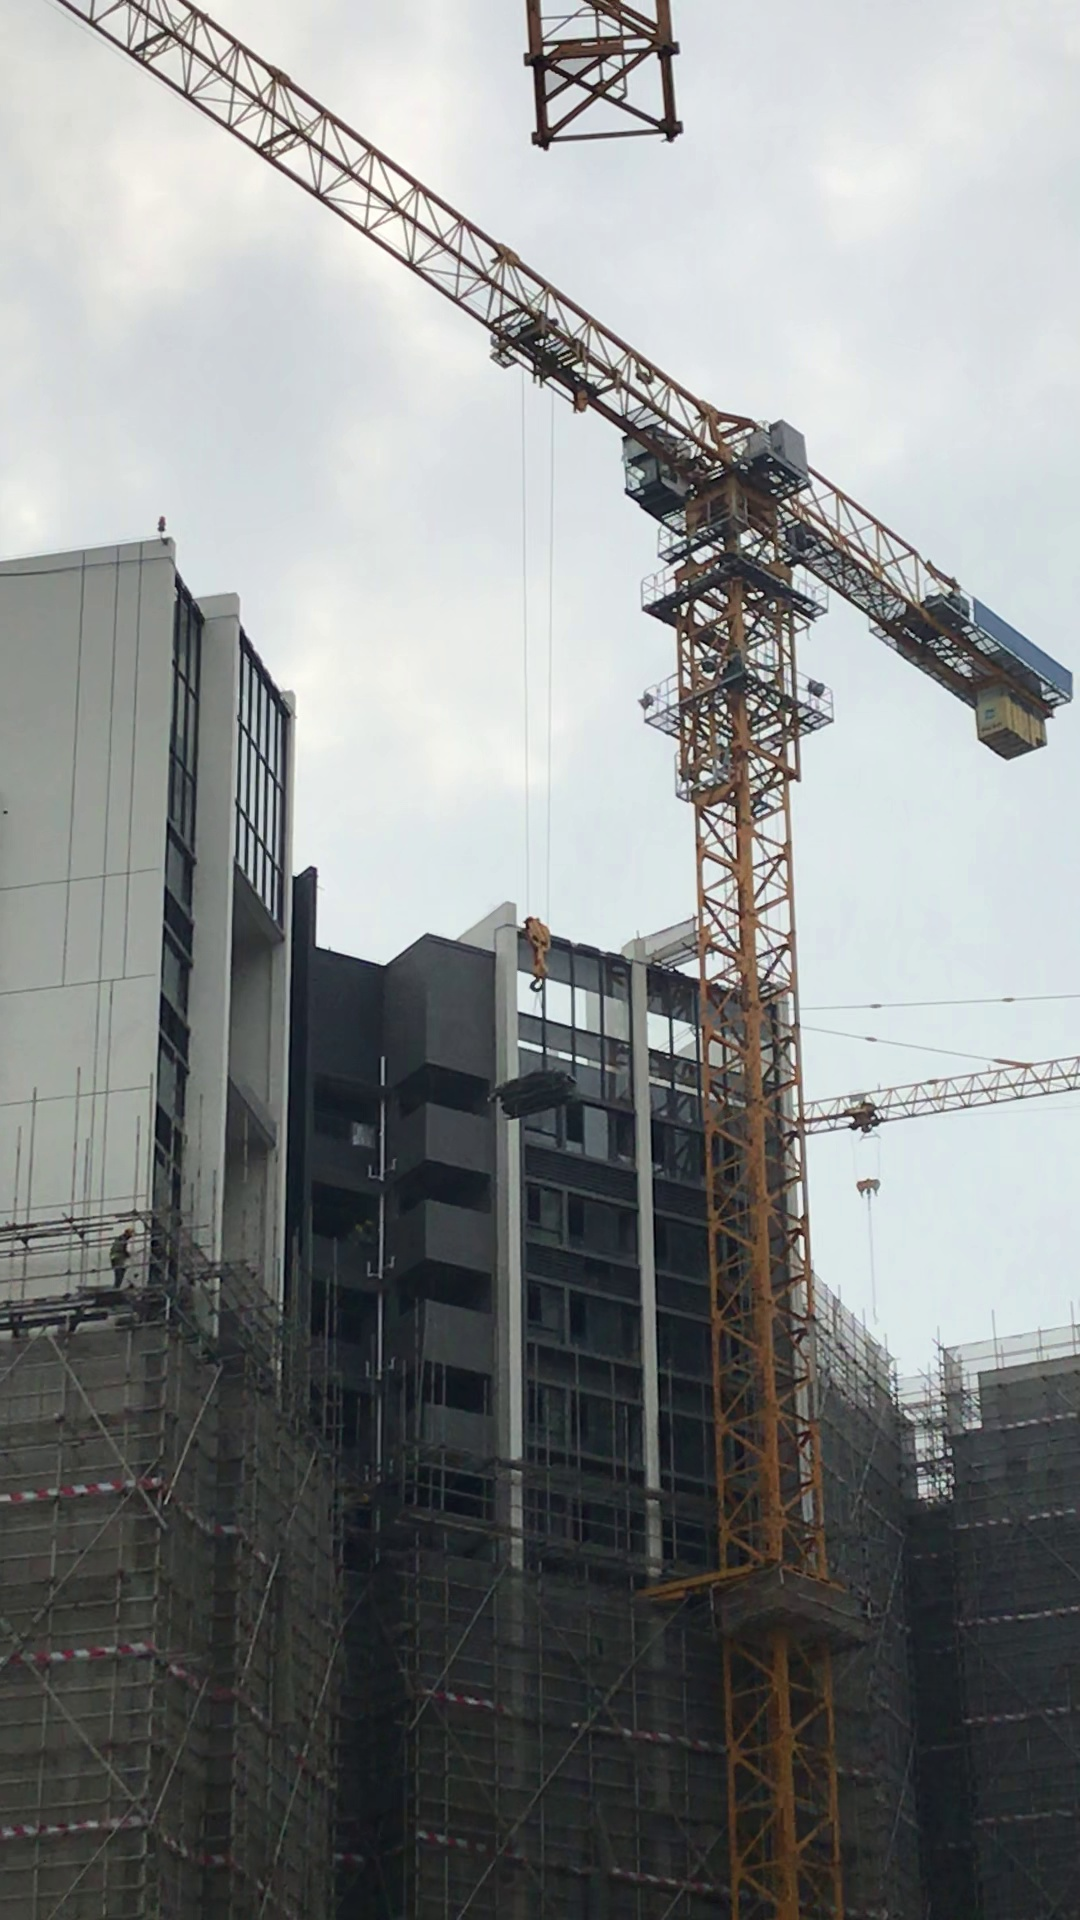hook: (518, 915, 563, 1000), (849, 1179, 887, 1200)
